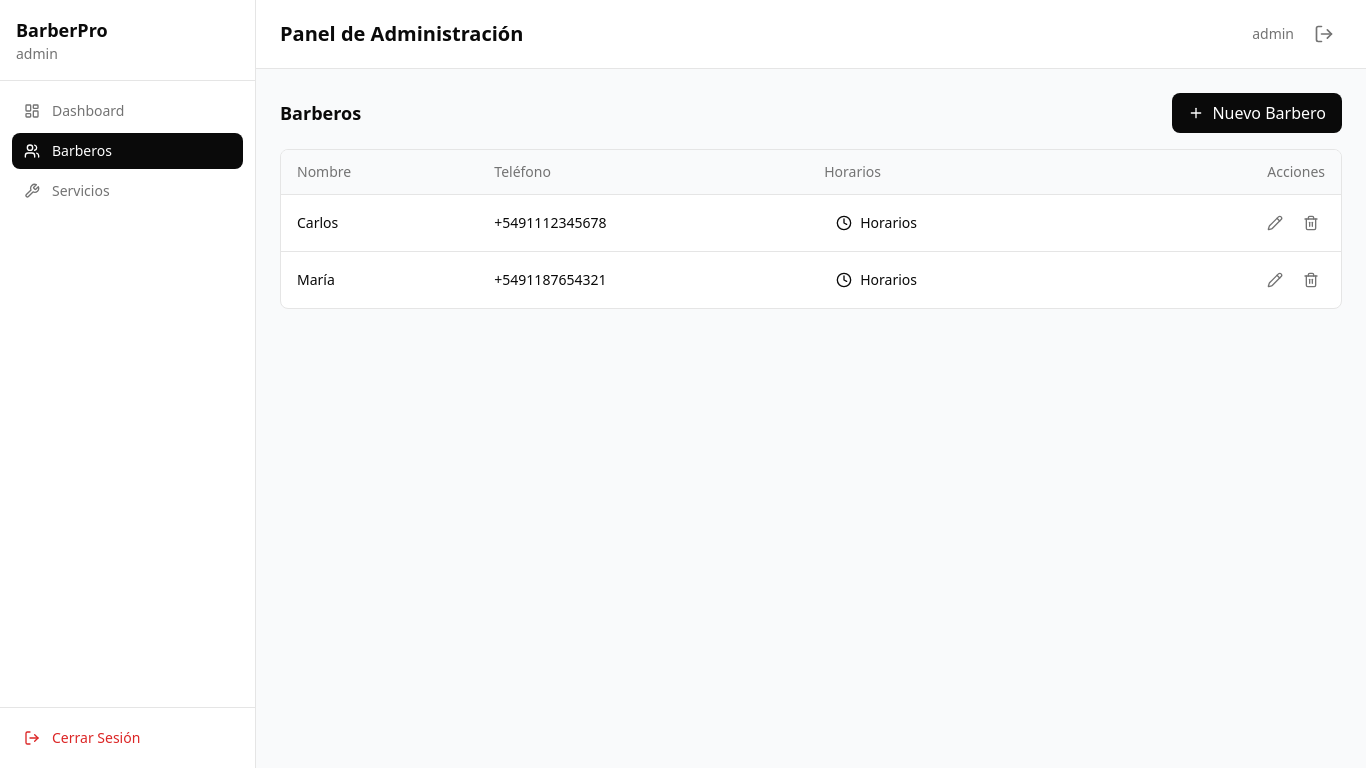
Test: Barbers CRUD › shows 409 error when barber has appointments
expect the text "Carlos" is shown: met, box top-left (281, 194), bottom-right (478, 252)
Click the button named "eliminar": click(1311, 223) top-left (1297, 209), bottom-right (1325, 237)
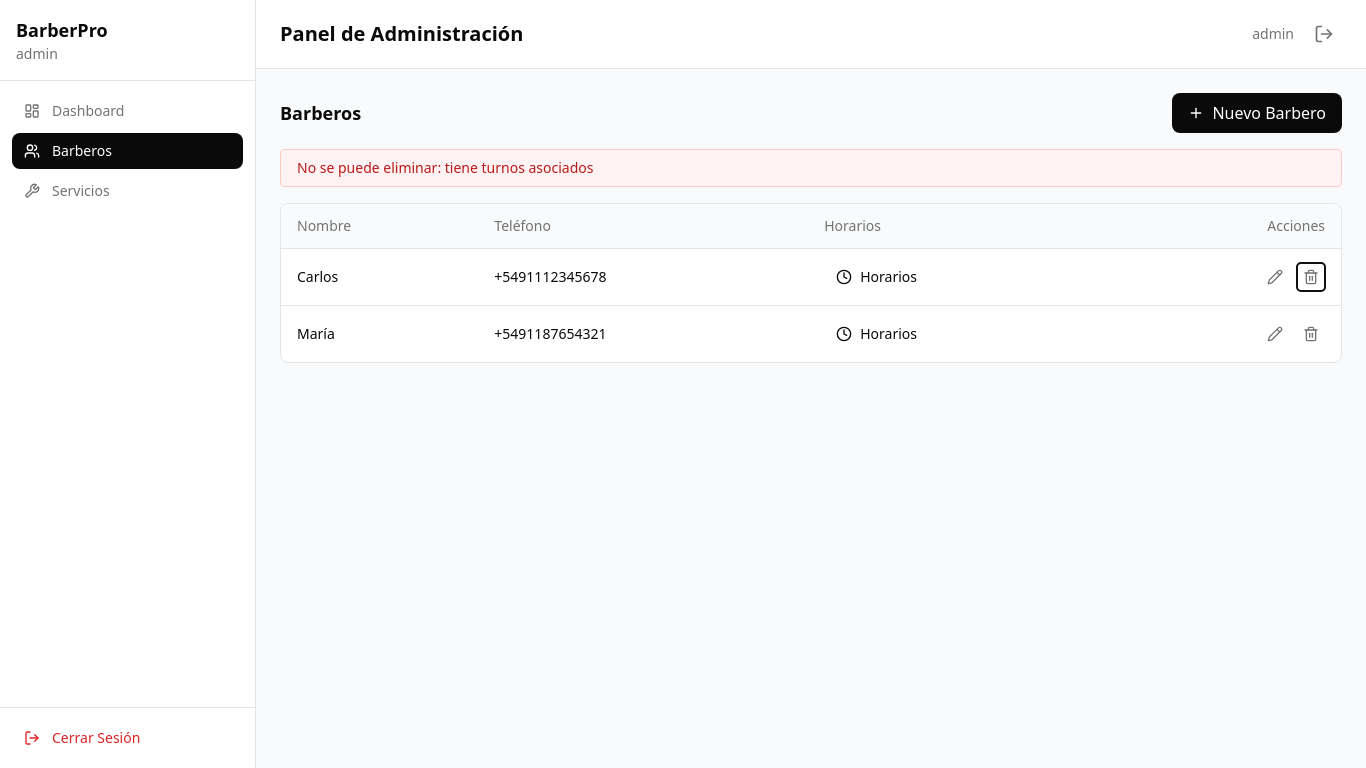
expect the message shows "tiene turnos asociados": met, box top-left (297, 158), bottom-right (594, 177)
